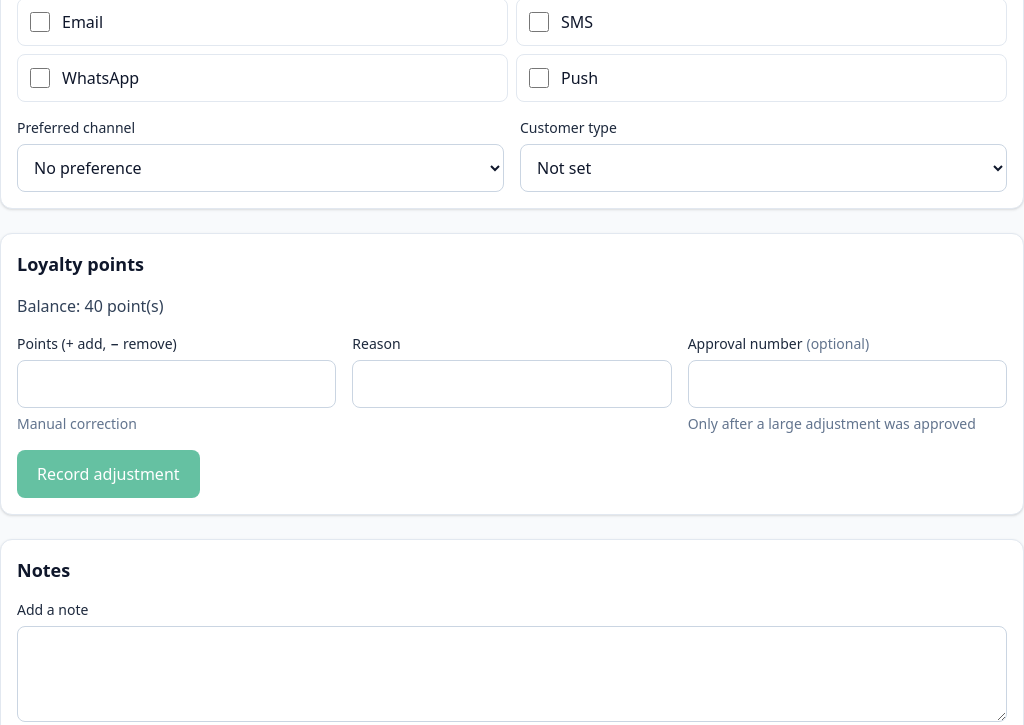
Test case: customer growth profile › tells the person a large adjustment was not applied and needs approval
The width and height of the screenshot is (1024, 725).
(page scrolled)
Type "5000" into the number field labelled "Points (+ add, − remove)" at (177, 384), box [17,360,336,408]
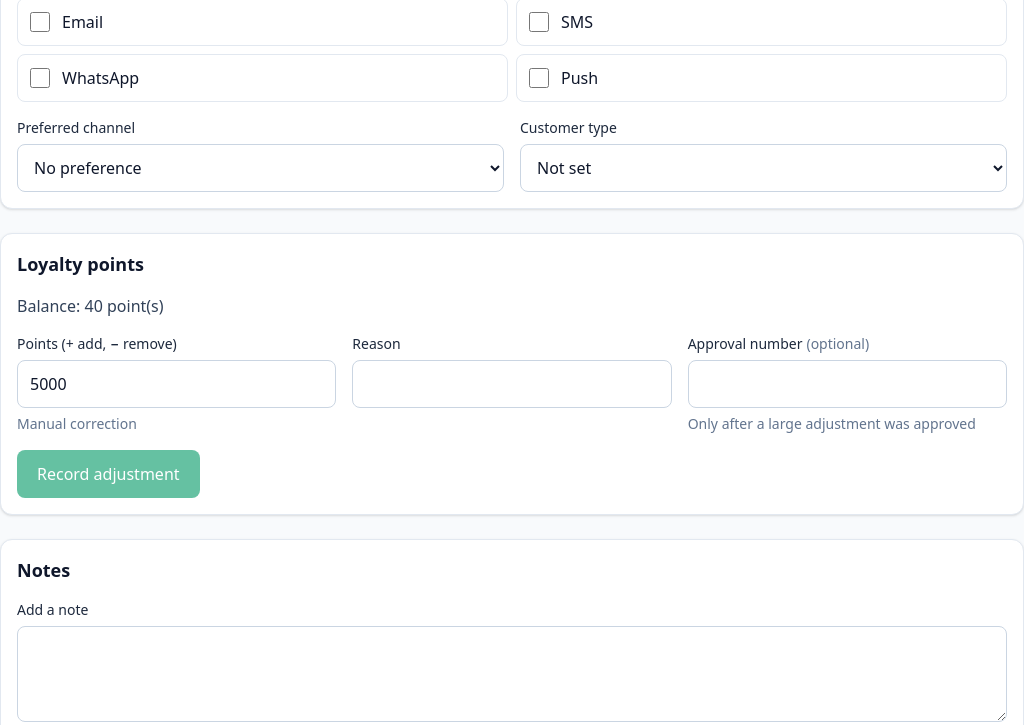
Type "Goodwill" into the field labelled "Reason" at (512, 384), box [352,360,672,408]
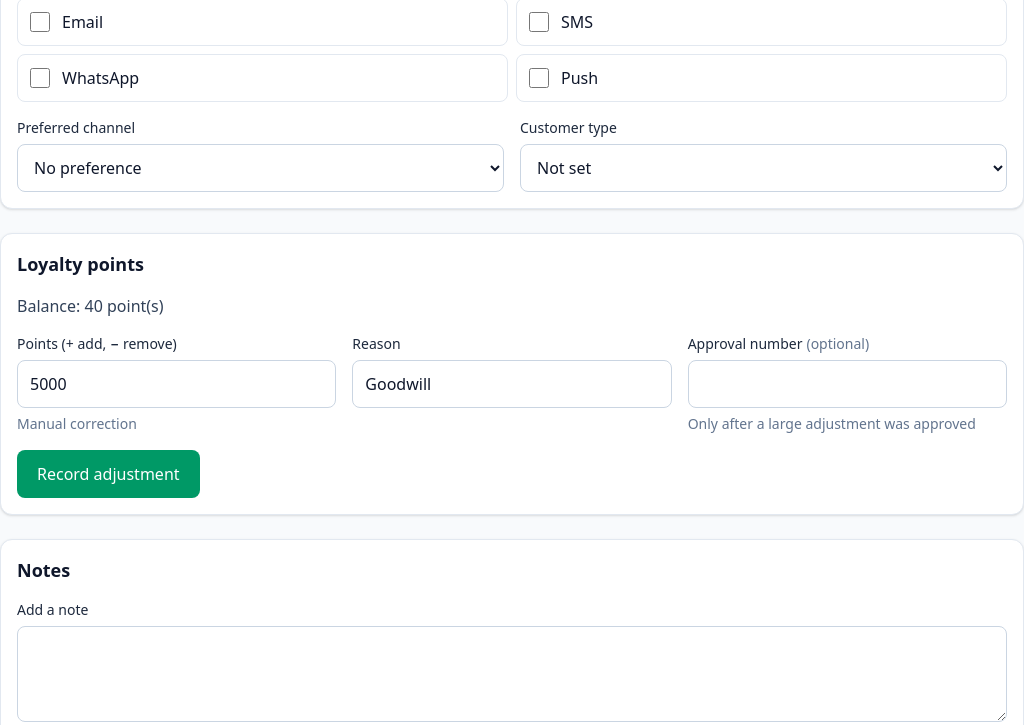
Click the button "Record adjustment" at (108, 474), box [17,450,200,498]
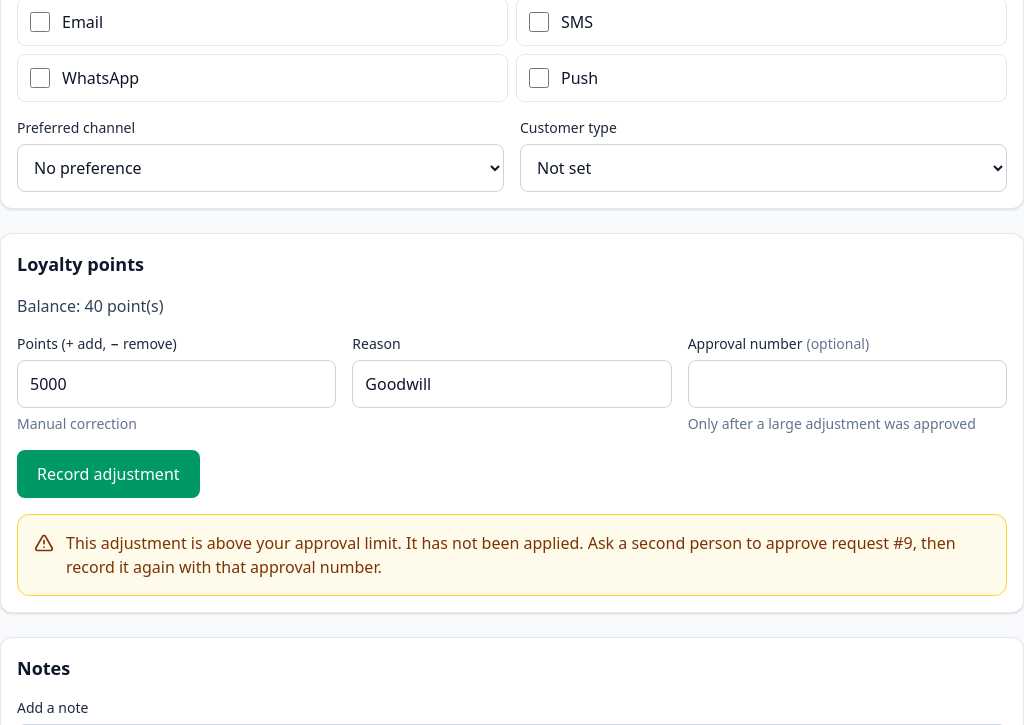
Expected: the text "request #9" is shown, [66,532,956,578]
